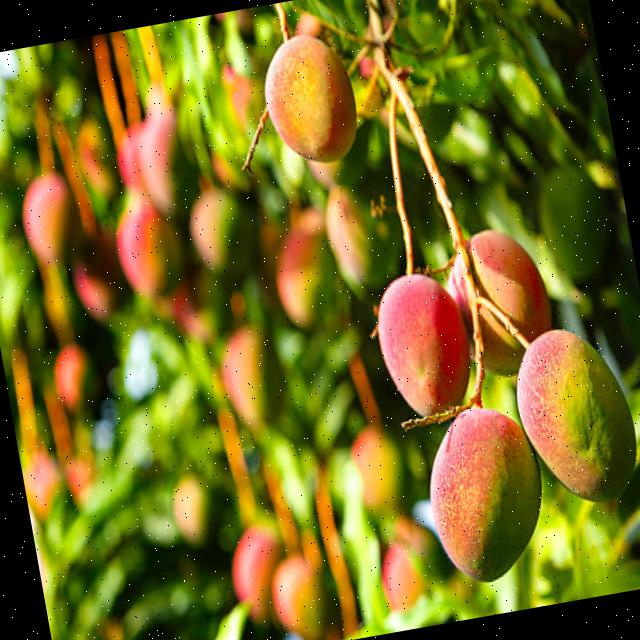mango: (516, 329, 636, 501), (430, 406, 541, 579), (448, 230, 551, 374), (377, 273, 470, 415), (265, 36, 357, 162)
